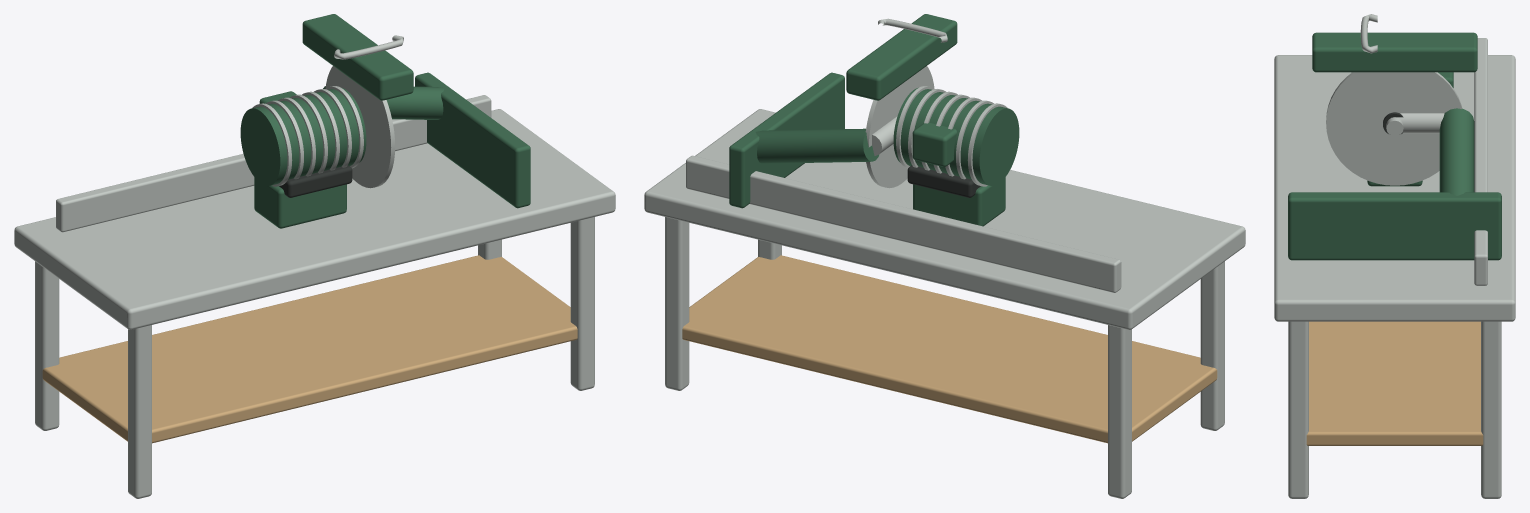
The model's file is sawmill-and-timber-yard-crosscut-station-d977547b__31178.glb.
The picture shows the model from 3 angles, left to right: view 1: azimuth 30°, elevation 25°; view 2: azimuth 150°, elevation 25°; view 3: azimuth 270°, elevation 25°; orthographic projection. The views are drawn at different scales.
Visible parts, largest first — view 1: crosscut-station; view 2: crosscut-station; view 3: crosscut-station.
Boxes of the visible parts, x1,y1,x2,y2 form: crosscut-station: [14, 14, 615, 498]; crosscut-station: [644, 14, 1245, 498]; crosscut-station: [1274, 14, 1515, 498].
Size of the model in its own units: 1.7 by 1.2 by 0.7.
